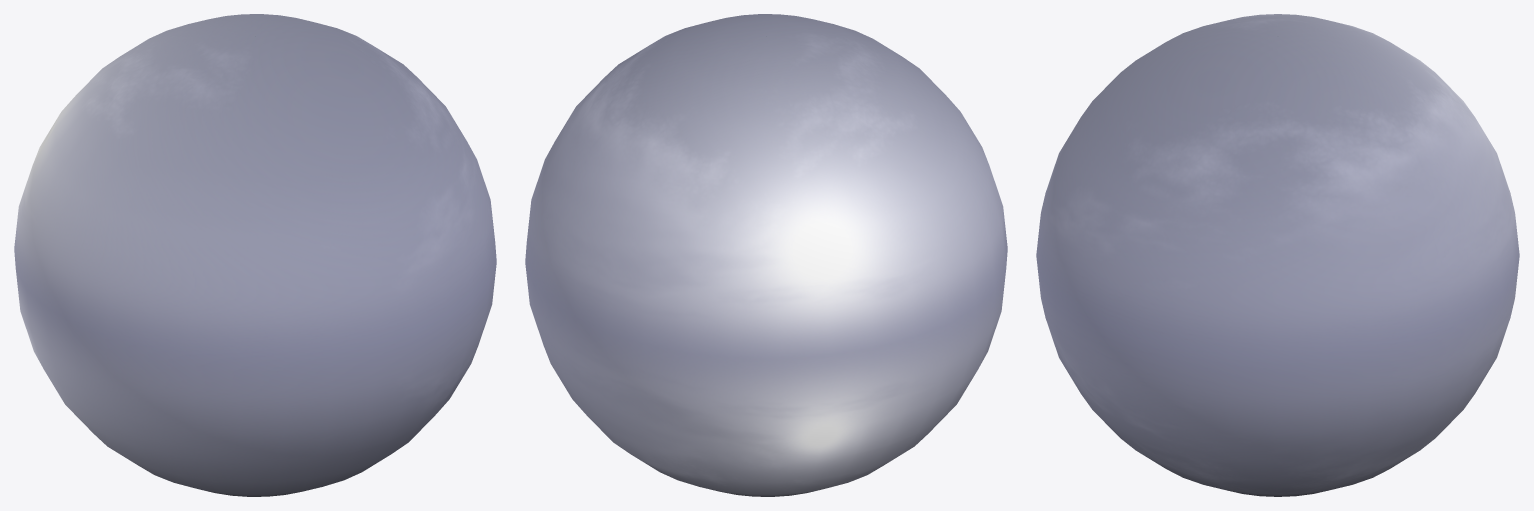
Rendered from stage09.glb.
3 renders of one model, left to right at view 1: azimuth 30°, elevation 25°; view 2: azimuth 150°, elevation 25°; view 3: azimuth 270°, elevation 25°, orthographic.
Parts seen in each view (by area): view 1: Sphere; view 2: Sphere; view 3: Sphere.
Part boxes in pixels (bbox=[...]): Sphere: bbox=[14, 14, 496, 496]; Sphere: bbox=[525, 14, 1007, 496]; Sphere: bbox=[1036, 14, 1519, 496].
Bounding box in the file's own units: 500 × 500 × 500.
14 materials, 6 textured.
